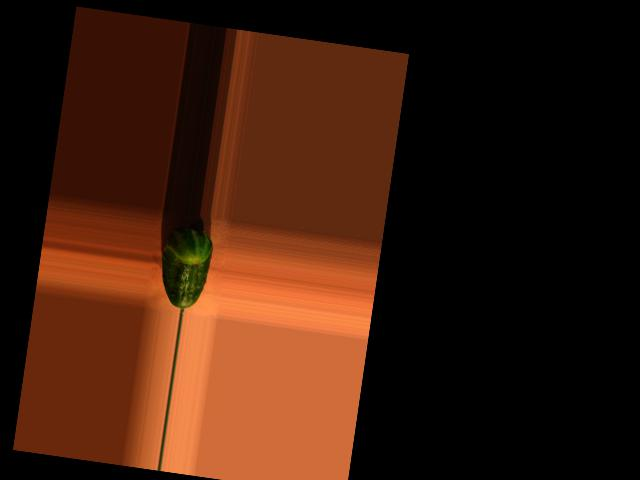cucumber: (155, 225, 215, 311)
